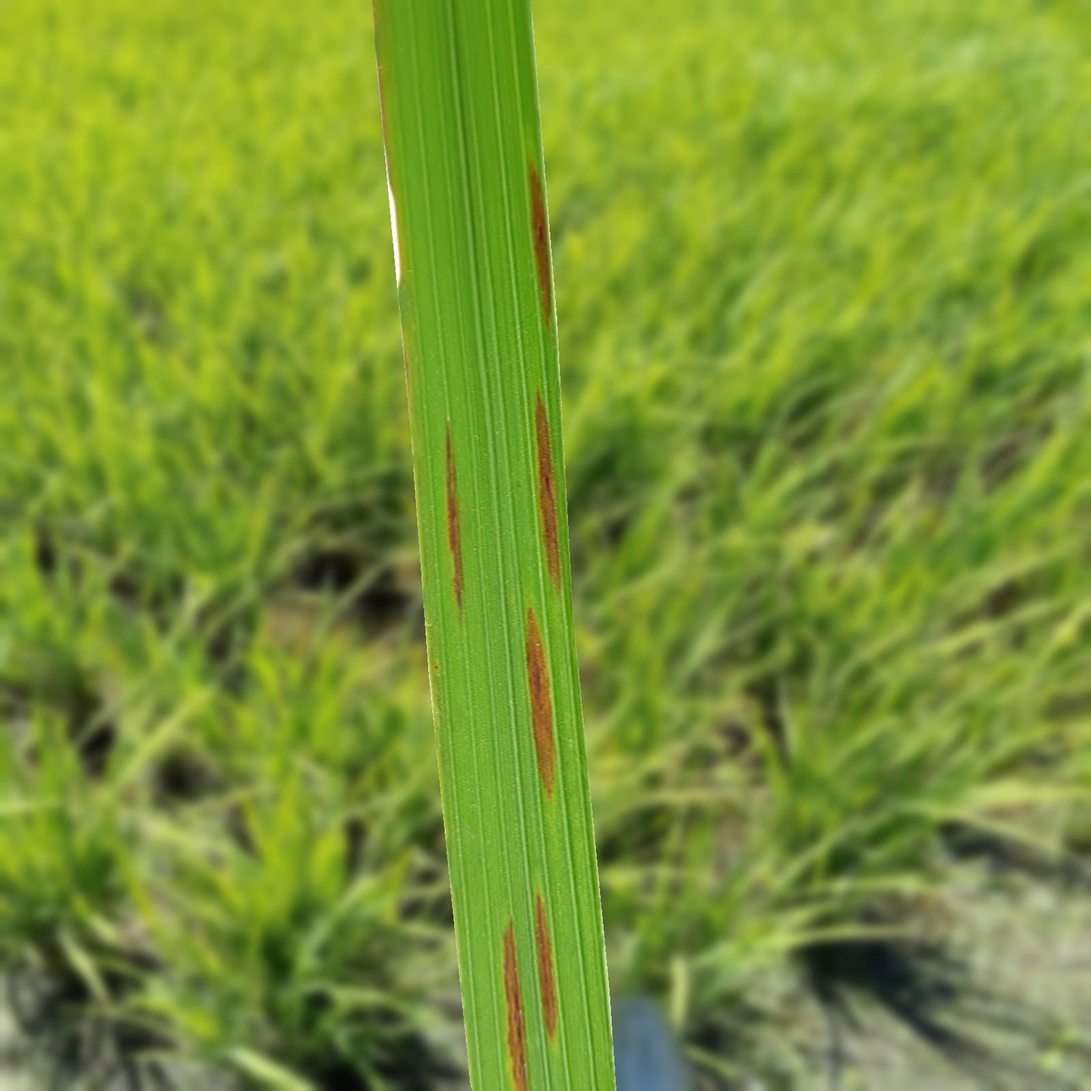LEAF: (372, 0, 616, 1090)
NBS: (526, 608, 555, 801), (535, 393, 561, 593), (503, 919, 528, 1090), (528, 164, 552, 325), (446, 422, 464, 611), (535, 894, 557, 1038)
